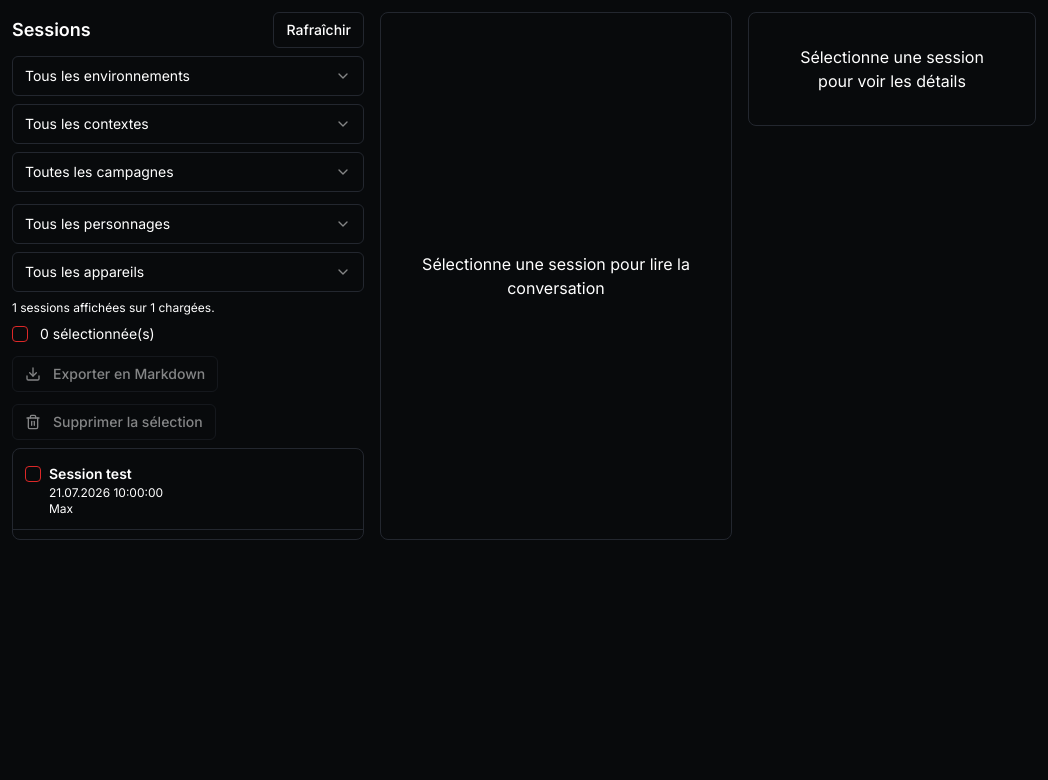
Test: SessionsTab — envoi vers le laboratoire RAG › permet d’épingler une question utilisateur depuis l’historique
Later steps or results of the test are not shown.
What coordinates should you click on to do the following:
click the text "Session test"
I would click on:
 (90, 474)
Its box is [49, 465, 132, 482].
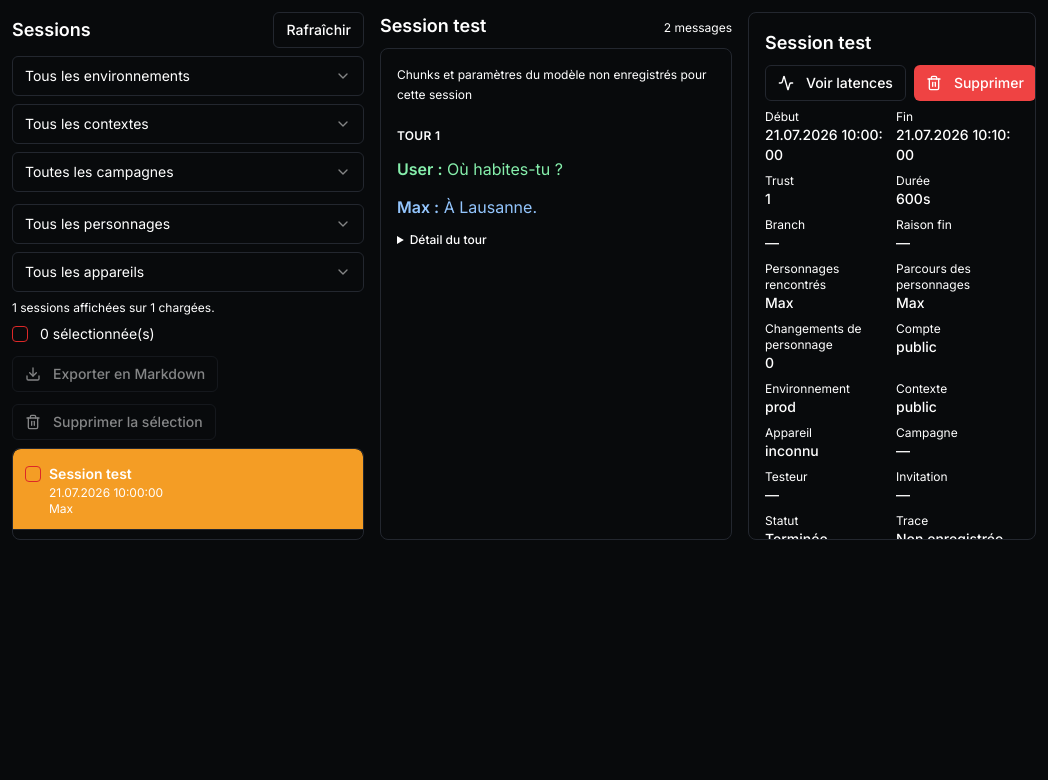
What coordinates should you click on to do the following:
click the heading "Détail du tour"
I would click on:
 (448, 240)
Its box is [410, 232, 486, 247].
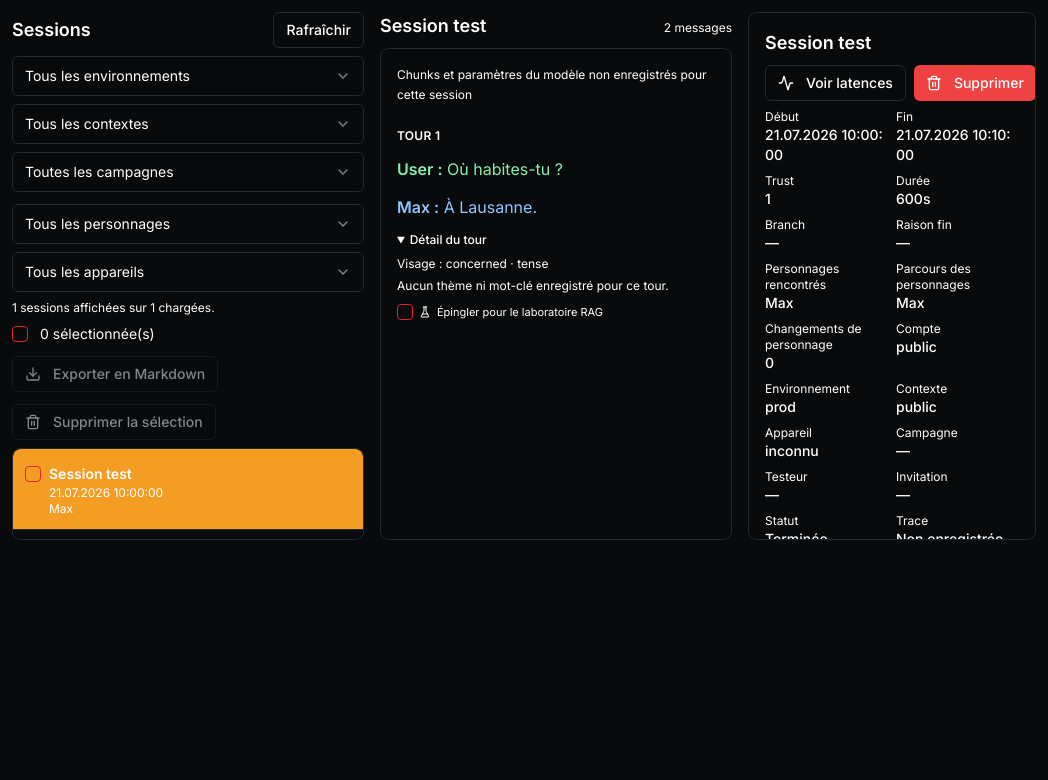
Expected: the checkbox named "Épingler pour le laboratoire RAG" is enabled, [397, 304, 413, 320]
